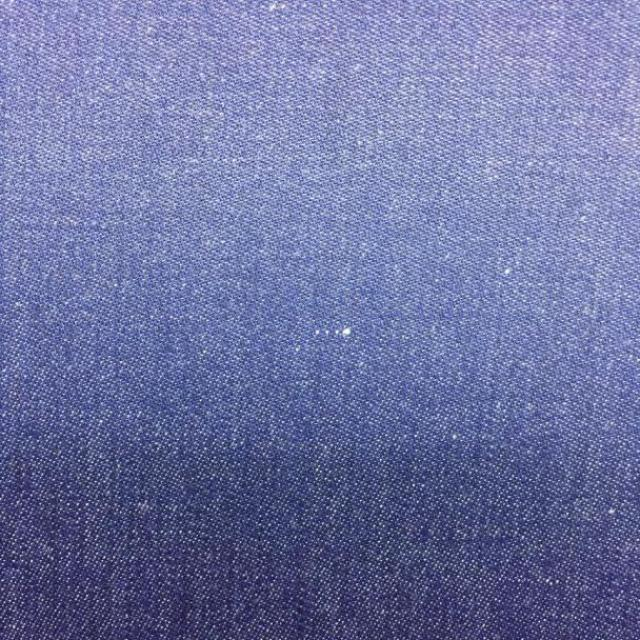Knot: (315, 326, 353, 338)
